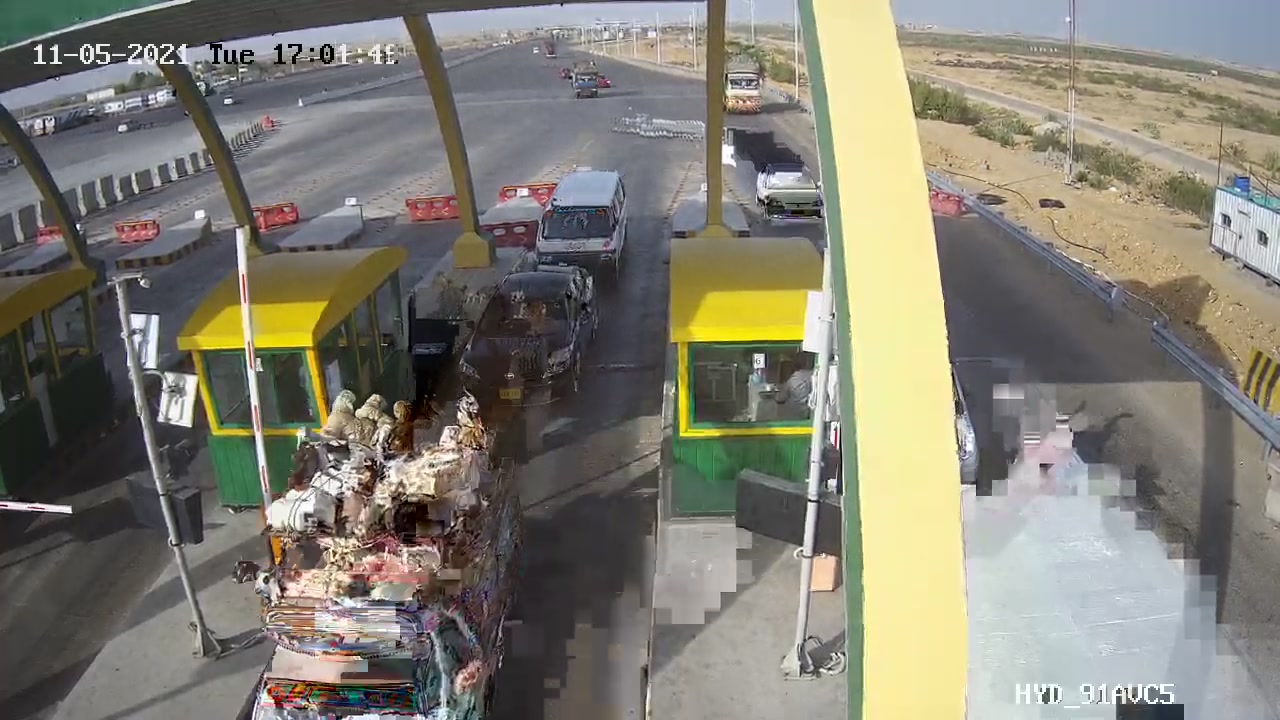F2: (520, 157, 640, 308)
